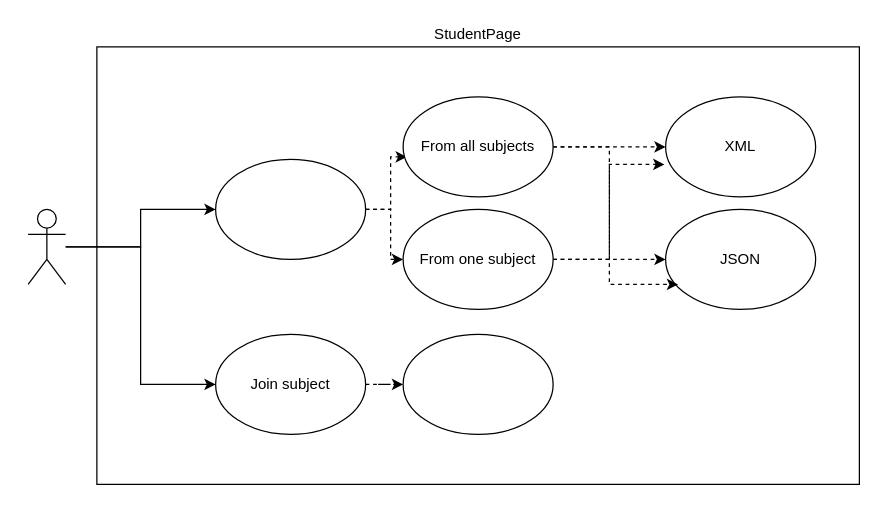
Some shapes in this 881 by 506 pixel diagram are drawn without their labels. Here are the shapes that lost their labels. From the top down, the centre of each, then its label:
At (290,208): "Export own grades".
At (46,246): "Student".
At (477,383): "Select subject".
